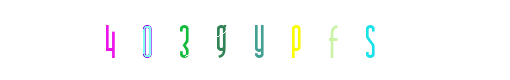3: (178, 0, 258, 80)
4: (81, 0, 161, 80)
F: (270, 0, 350, 80)
G: (200, 0, 280, 80)
O: (165, 0, 245, 80)
P: (255, 0, 335, 80)
S: (330, 0, 410, 80)
Y: (215, 0, 295, 80)
